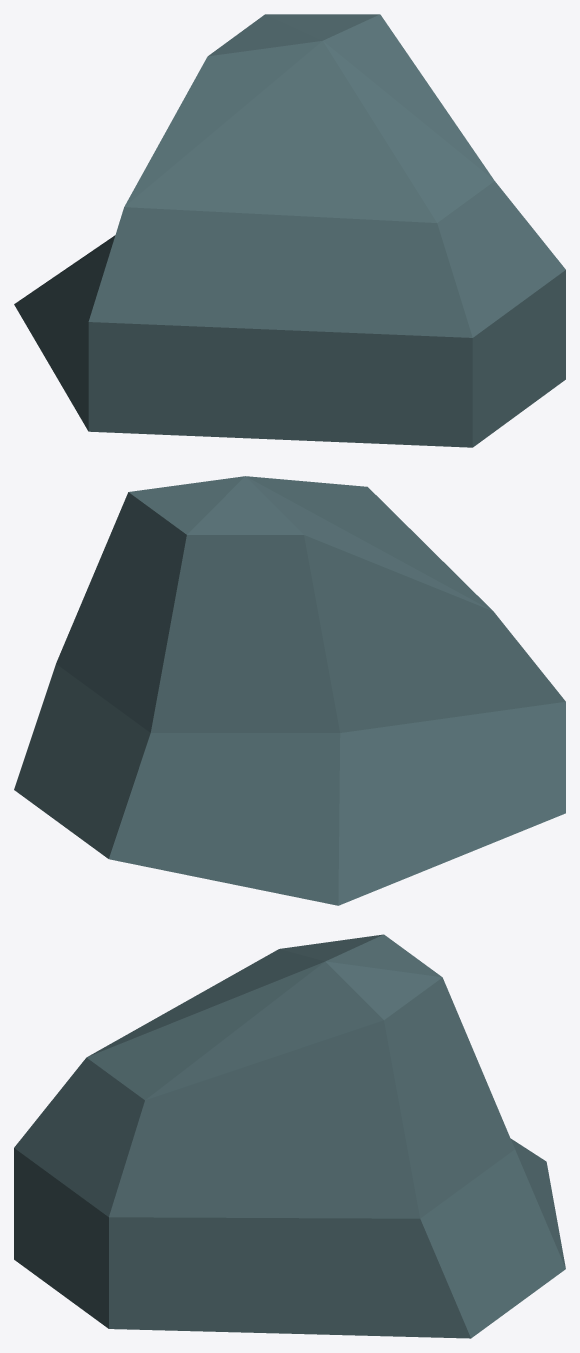
Rendered from rock2.glb.
3 views of the same model, one above another, from view 1: azimuth 30°, elevation 25°; view 2: azimuth 150°, elevation 25°; view 3: azimuth 270°, elevation 25° (orthographic).
Parts seen in each view (by area): view 1: камень2; view 2: камень2; view 3: камень2.
Part boxes in pixels (x1,y1,x2,y2): камень2: [14, 14, 565, 447]; камень2: [14, 476, 565, 905]; камень2: [14, 934, 565, 1338].
Bounding box in the file's own units: 0.5864 × 0.3828 × 0.6392.
Materials: 1 (1 with a texture image).
